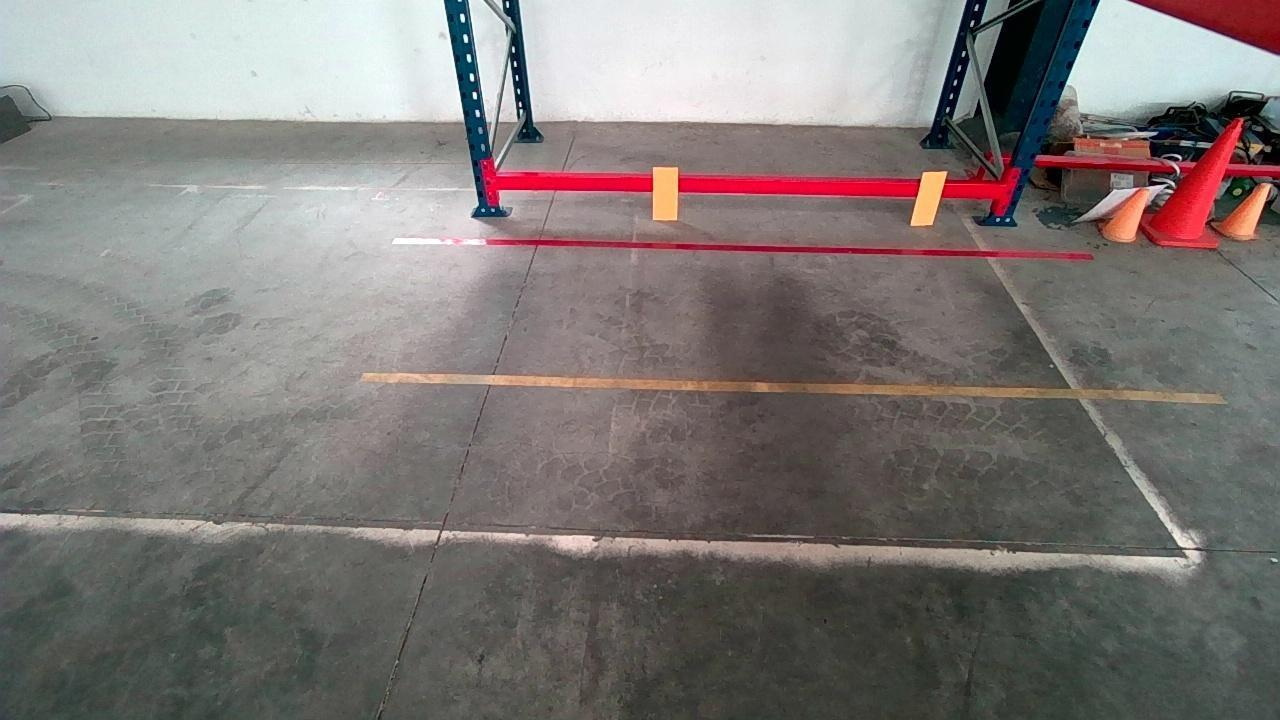h_rack: (492, 173, 1003, 199)
orange_strip: (910, 170, 949, 224), (652, 165, 680, 219)
red_line: (388, 233, 1096, 261)
yellow_line: (361, 369, 1200, 407)
